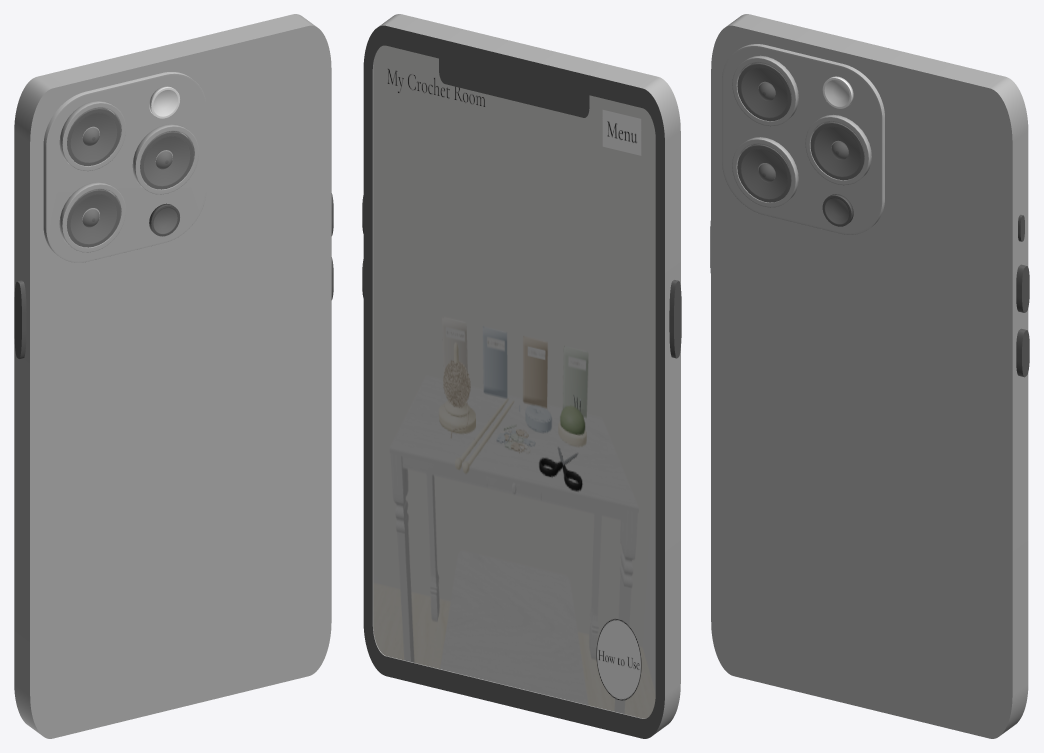
The model's file is room-sp.glb.
3 renders of one model, left to right at view 1: azimuth 30°, elevation 25°; view 2: azimuth 150°, elevation 25°; view 3: azimuth 330°, elevation 25°, orthographic.
Visible parts, largest first — view 1: Cube.001, Cube, Cylinder.002, Cylinder.011, Cylinder.009, Cylinder.001, Cylinder.008, Cylinder.012, Cylinder.007, Cylinder.010, Cylinder, Cube.006 (+2 smaller); view 2: Cube.001, Cube.006; view 3: Cube.001, Cube, Cylinder.009, Cylinder.002, Cylinder.011, Cylinder.001, Cylinder.008, Cylinder.012, Cylinder.007, Cylinder.010, Cylinder, Cylinder.003 (+3 smaller).
Part boxes in pixels (x1,y1,x2,y2): Cube.001: [14, 14, 331, 738]; Cube: [43, 72, 206, 262]; Cylinder.002: [67, 107, 120, 165]; Cylinder.011: [140, 131, 193, 189]; Cylinder.009: [67, 189, 120, 247]; Cylinder.001: [71, 108, 120, 162]; Cylinder.008: [71, 189, 120, 243]; Cylinder.012: [144, 132, 193, 185]; Cylinder.007: [59, 182, 125, 252]; Cylinder.010: [132, 124, 198, 194]; Cylinder: [59, 100, 125, 170]; Cube.006: [14, 280, 26, 359]; Cube.001: [363, 14, 680, 738]; Cube.006: [669, 280, 681, 358]; Cube.001: [711, 14, 1028, 738]; Cube: [722, 44, 884, 234]; Cylinder.009: [737, 144, 791, 202]; Cylinder.002: [737, 62, 791, 121]; Cylinder.011: [810, 121, 864, 180]; Cylinder.001: [737, 63, 787, 117]; Cylinder.008: [737, 144, 787, 198]; Cylinder.012: [811, 122, 860, 176]; Cylinder.007: [732, 137, 798, 207]; Cylinder.010: [805, 114, 871, 185]; Cylinder: [732, 55, 798, 126]; Cylinder.003: [822, 76, 853, 108].
Bounding box in the file's own units: 2.34 × 4.66 × 0.2792.
Materials: 5 (1 with a texture image).
